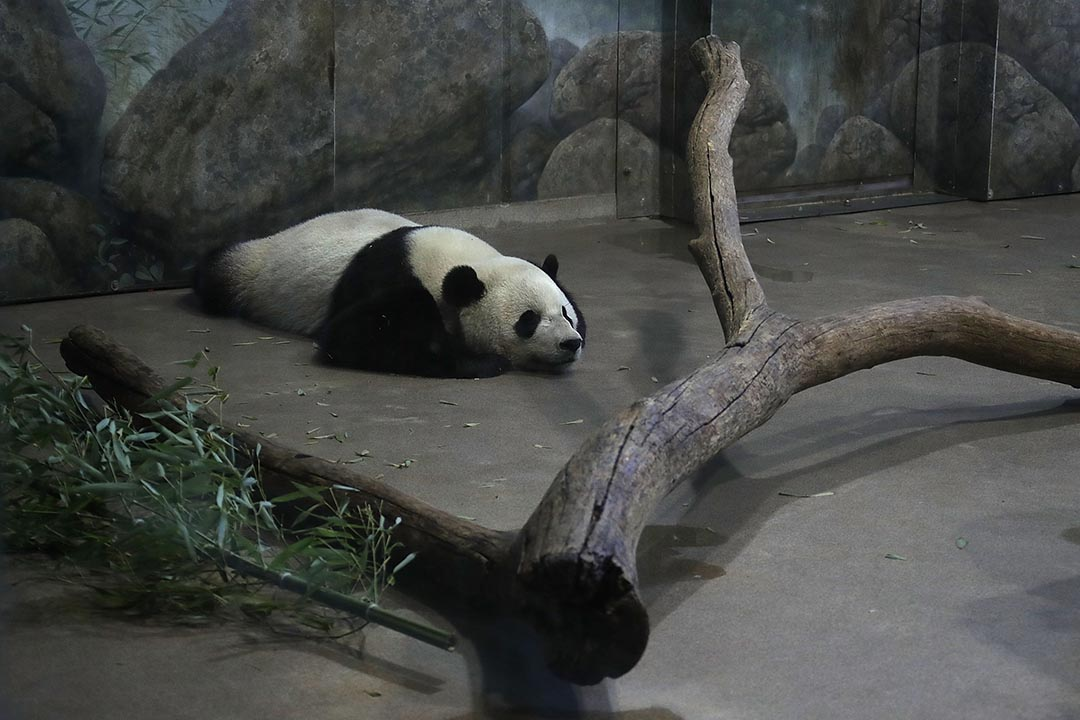panda: (187, 203, 592, 382)
